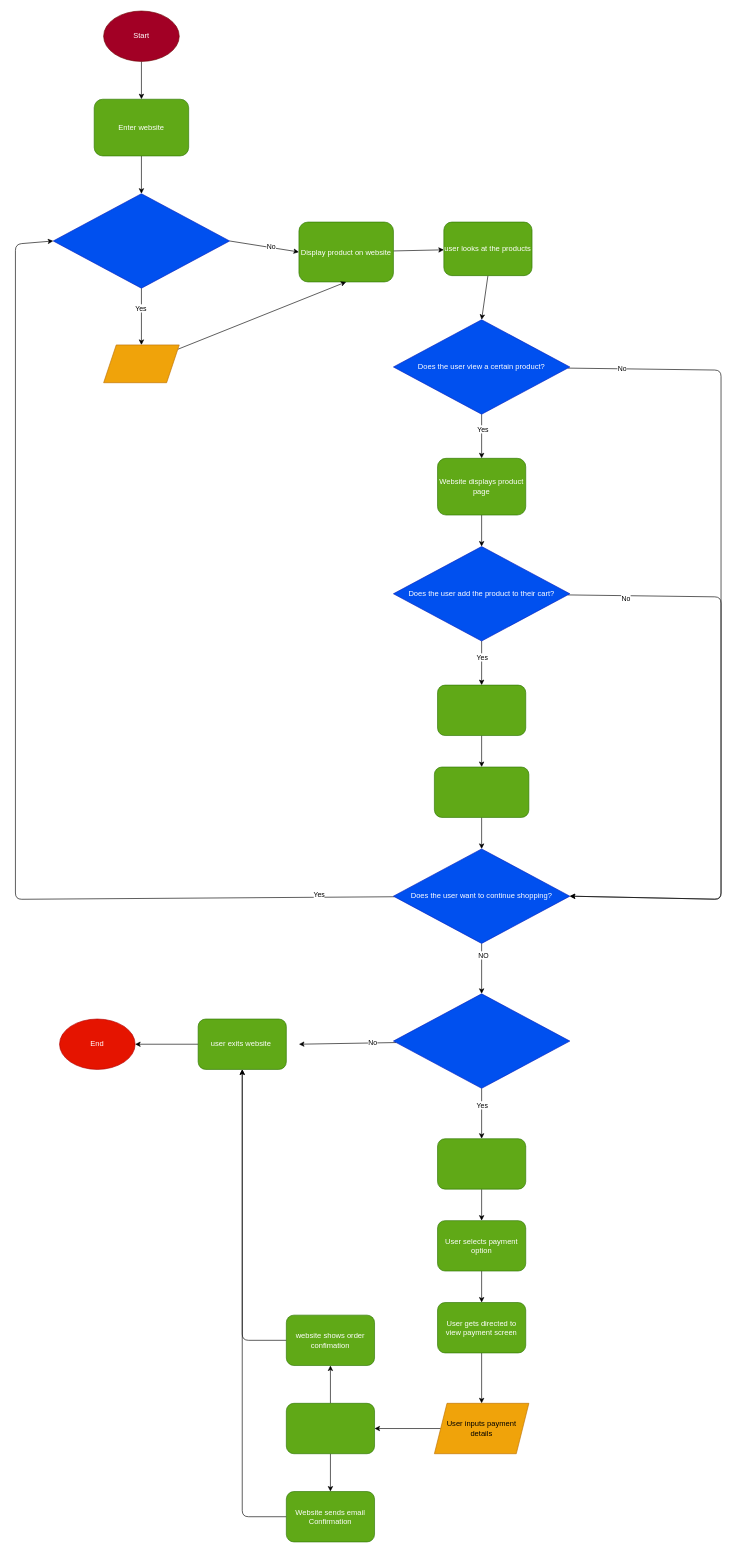
Image size: 737x1553. Some labels were removed from this diagram. The shapes that lost their labels are listed below. From the top down, each one's box as (x1, y1, x2, y2) in pixels, then its label:
(53, 193, 230, 288): Use searchs for a product?
(103, 344, 179, 383): Read inputed product
(437, 684, 526, 736): Website adds the product to the cart
(434, 766, 529, 817): website shows the confirmation for adding product to cart
(393, 993, 570, 1088): Does the user check out?
(437, 1138, 526, 1189): user views cart screen
(286, 1403, 375, 1454): User pays
